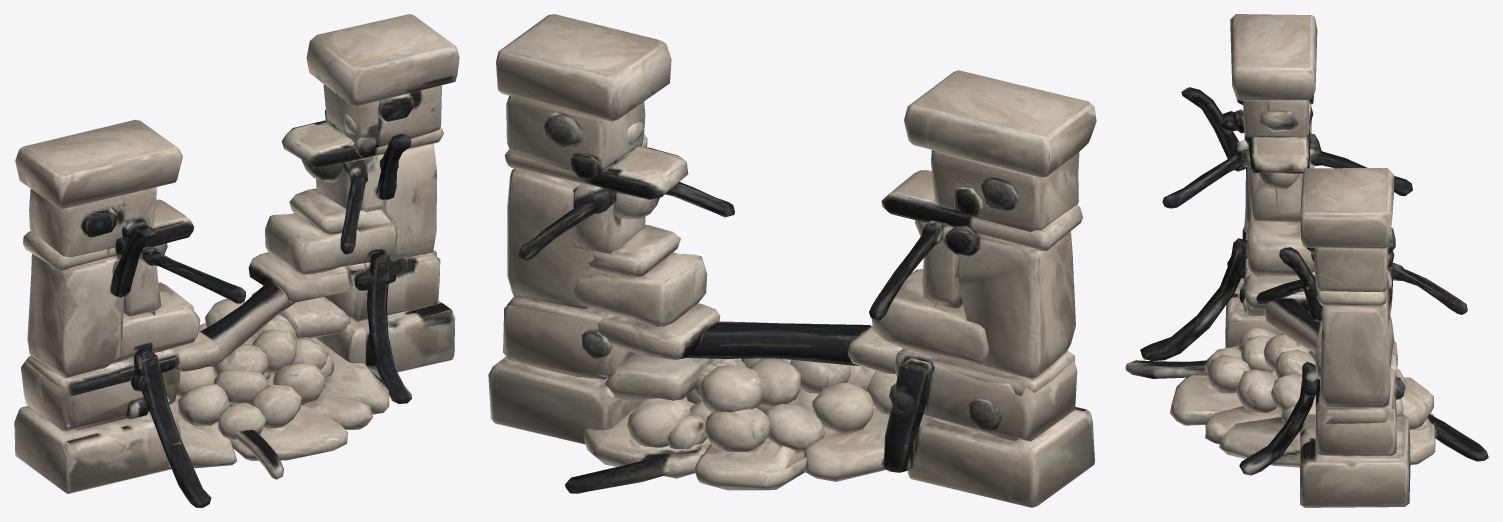
Rendered from pv_muro_rachado.glb.
3 views of the same model, side by side, from view 1: azimuth 30°, elevation 25°; view 2: azimuth 150°, elevation 25°; view 3: azimuth 270°, elevation 25° (orthographic). The views are drawn at different scales.
Visible parts, largest first — view 1: Mesh_0.002; view 2: Mesh_0.002; view 3: Mesh_0.002.
Part boxes in pixels (x1,y1,x2,y2): Mesh_0.002: (14,14,459,507); Mesh_0.002: (488,14,1096,507); Mesh_0.002: (1125,14,1488,507).
Size of the model in its own units: 0.4014 by 0.2803 by 0.3044.
1 material, 1 textured.
